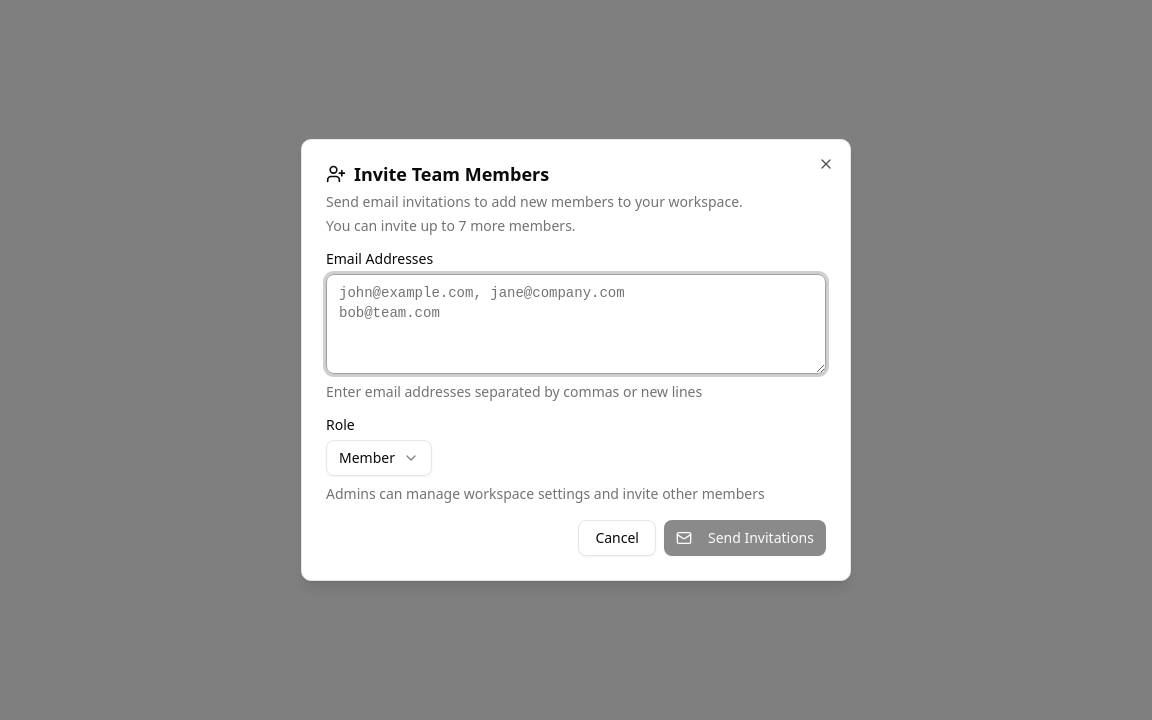
InviteMembersModal › removes duplicate emails
This screenshot has width=1152, height=720.
Type "duplicate@test.com, duplicate@test.com, duplicate@test.com" into the text box with placeholder "john@example.com, jane@company.com bob@team.com" at (576, 324), box x1=326 y1=274 x2=826 y2=374
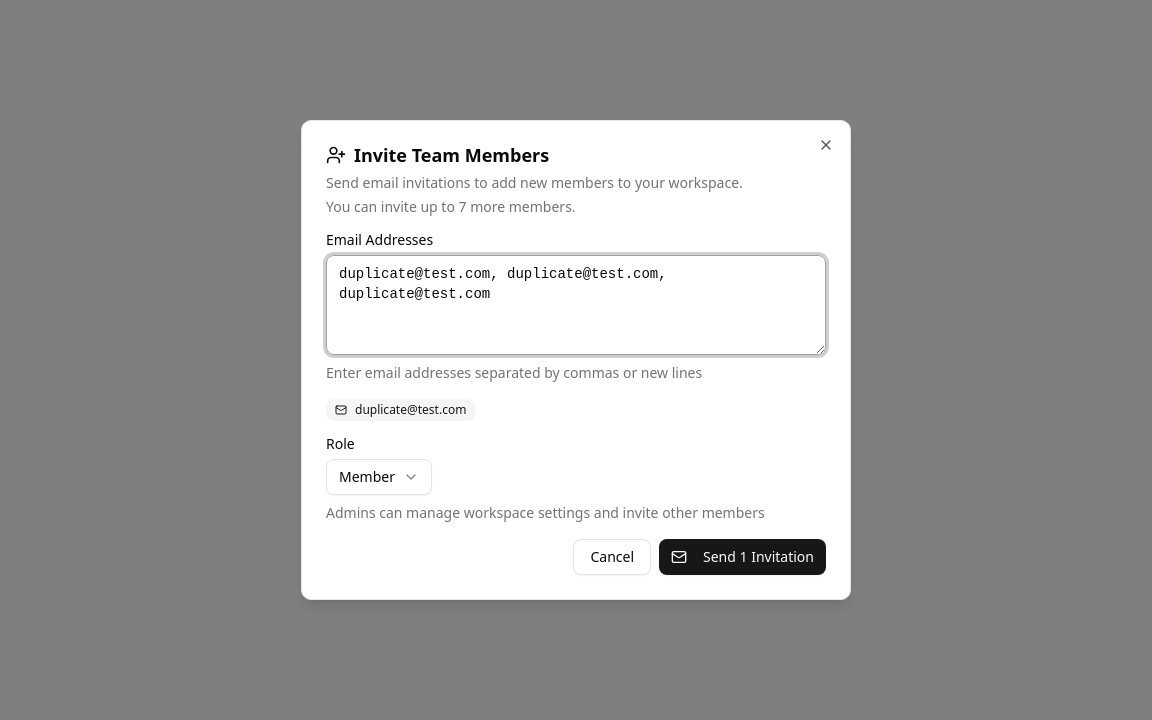
Check: the text "duplicate@test.com" is shown once, box x1=326 y1=399 x2=475 y2=421
